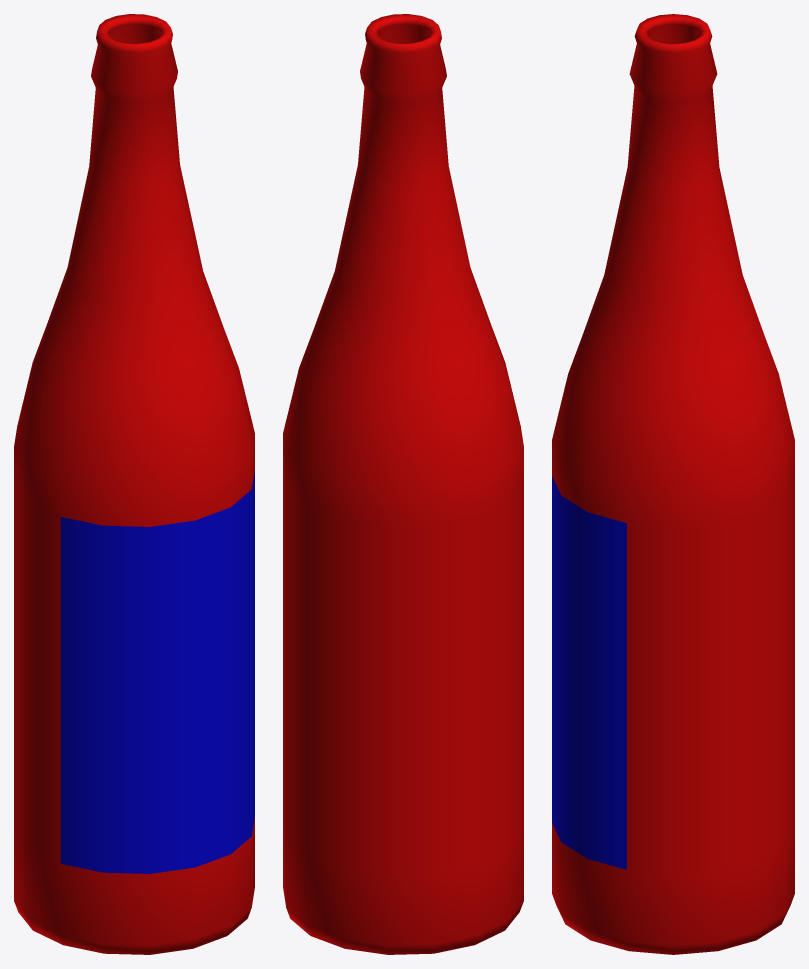
Rendered from rice_wine.FBX.
3 views of the same model, side by side, from view 1: azimuth 30°, elevation 25°; view 2: azimuth 150°, elevation 25°; view 3: azimuth 270°, elevation 25° (orthographic).
Parts seen in each view (by area): view 1: rice_wine; view 2: rice_wine; view 3: rice_wine.
Part boxes in pixels (bbox=[...]): rice_wine: bbox=[14, 14, 254, 954]; rice_wine: bbox=[283, 14, 523, 954]; rice_wine: bbox=[552, 14, 794, 954].
Size of the model in its own units: 0.072 by 0.072 by 0.2879.
